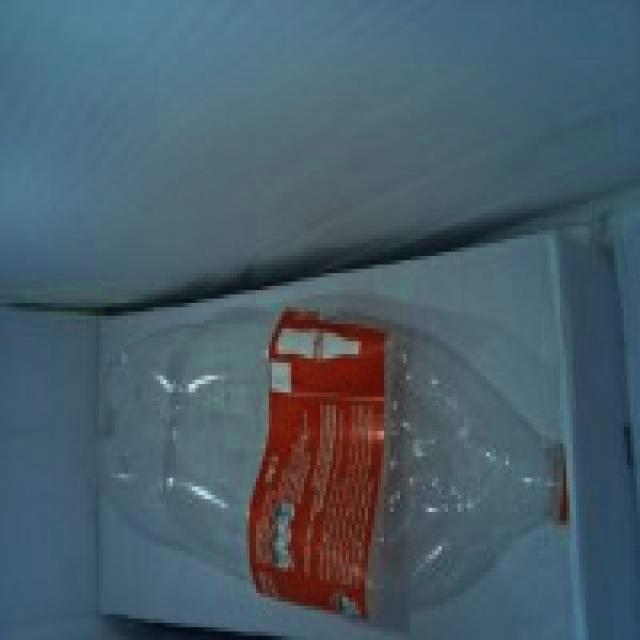bottle: (102, 310, 570, 620)
